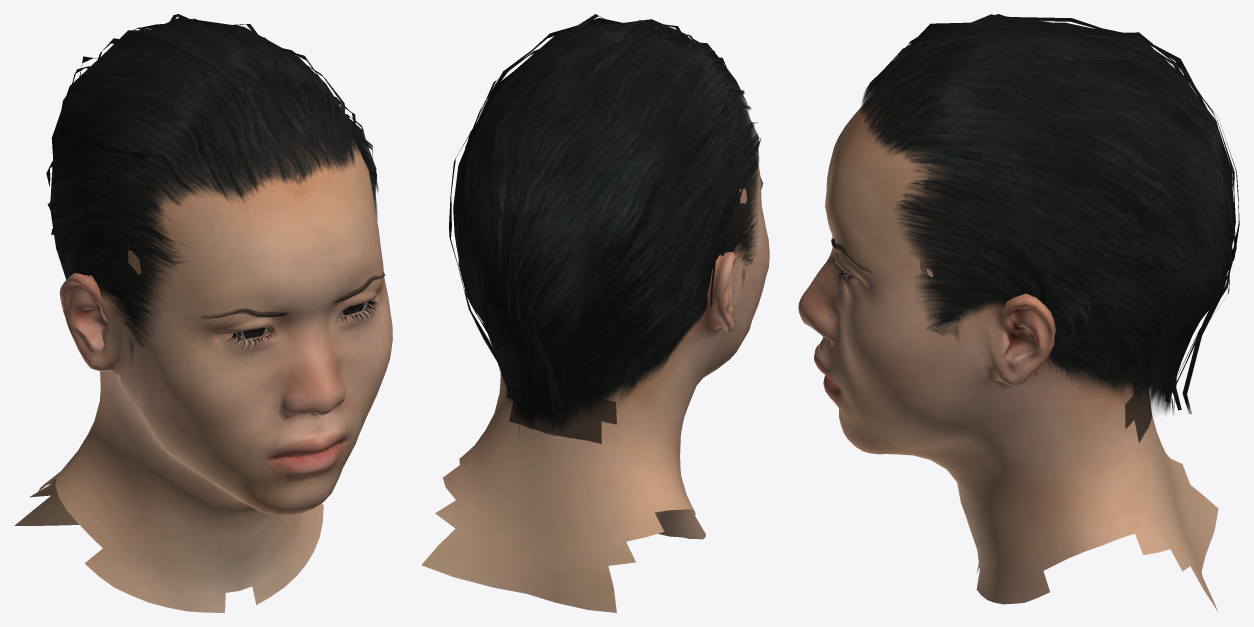
File: patient03.glb
The picture shows the model from 3 angles, left to right: view 1: azimuth 30°, elevation 25°; view 2: azimuth 150°, elevation 25°; view 3: azimuth 270°, elevation 25°; orthographic projection. The views are drawn at different scales.
Visible parts, largest first — view 1: lee_rider.body, lee_rider.short04, lee_rider.eyebrow003, lee_rider.eyelashes01; view 2: lee_rider.short04, lee_rider.body; view 3: lee_rider.short04, lee_rider.body.
Boxes of the visible parts, x1,y1,x2,y2 form: lee_rider.body: (14, 142, 392, 612); lee_rider.short04: (46, 14, 378, 359); lee_rider.eyebrow003: (198, 272, 385, 318); lee_rider.eyelashes01: (227, 300, 379, 348); lee_rider.short04: (449, 14, 761, 436); lee_rider.body: (421, 137, 769, 612); lee_rider.short04: (860, 14, 1239, 414); lee_rider.body: (798, 100, 1218, 612).
Size of the model in its own units: 0.1717 by 0.312 by 0.2254.
8 materials, 7 textured.
